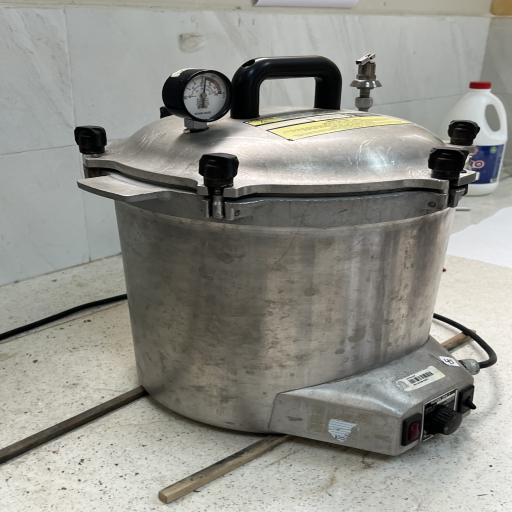Autoclave: (59, 47, 490, 462)
